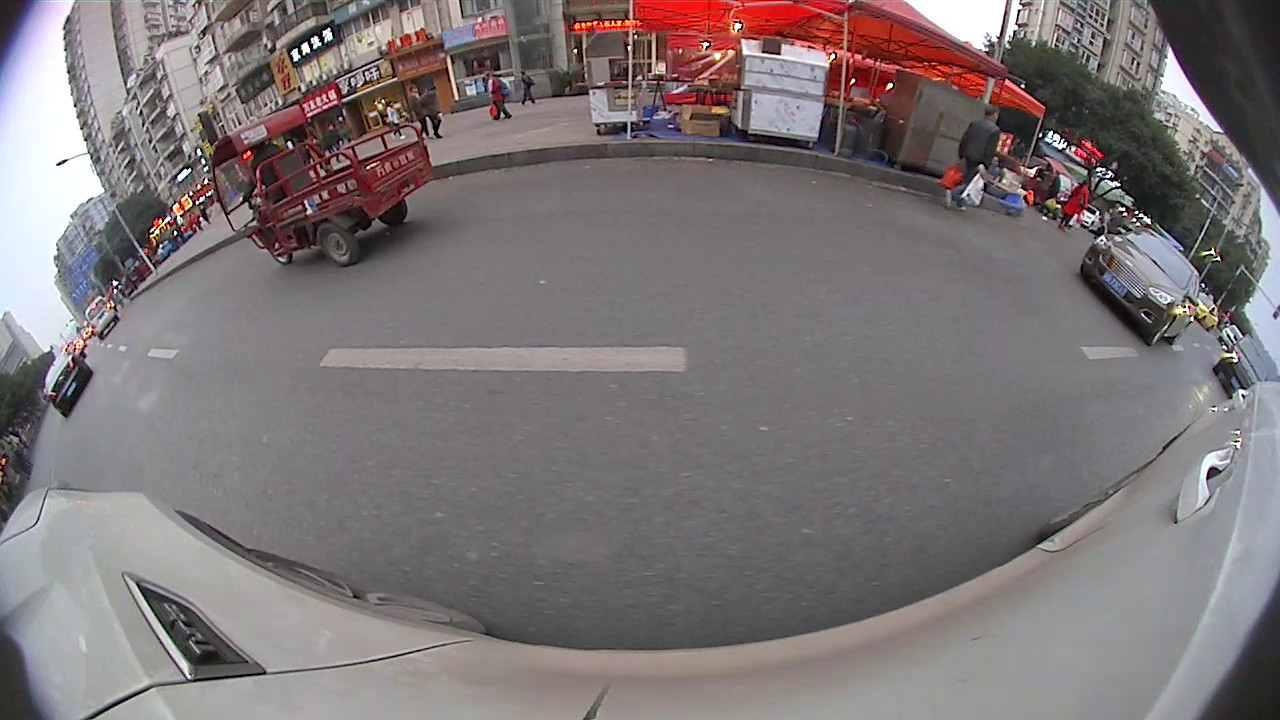car: (1078, 225, 1201, 344), (38, 348, 96, 422), (1211, 329, 1276, 390), (83, 295, 124, 343)
front: (1146, 312, 1180, 350)
person: (953, 102, 1004, 214)
rear: (313, 222, 361, 270)
rider: (210, 106, 441, 267)
